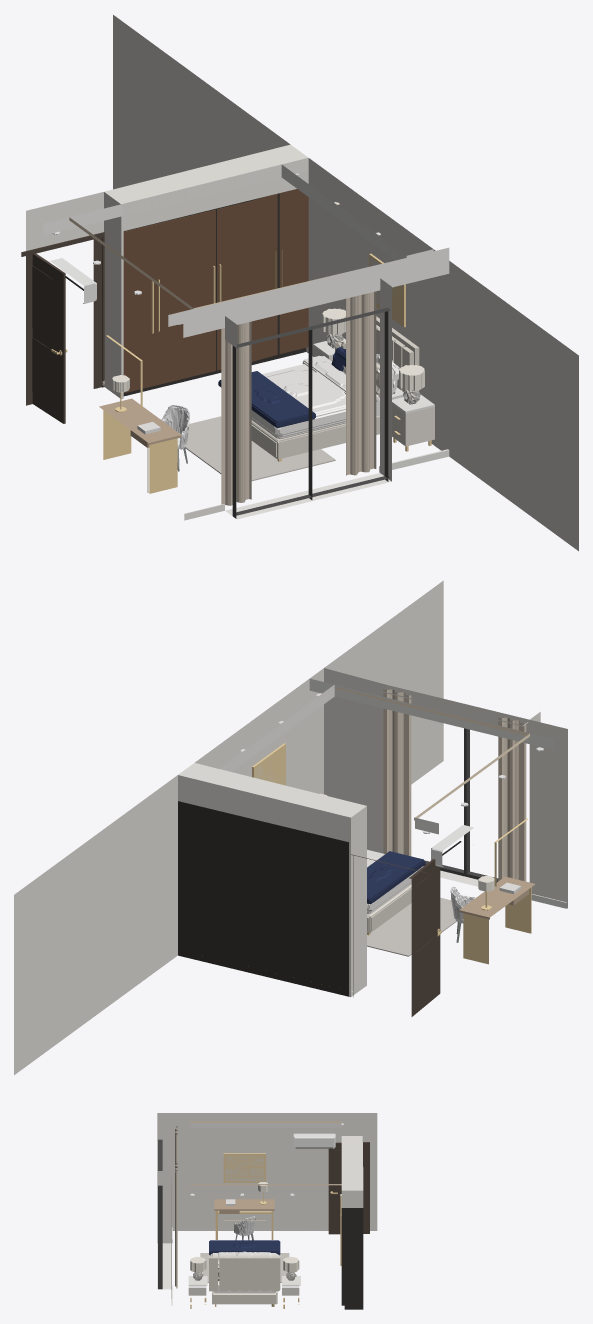
Rendered from ROOM4.glb.
The picture shows the model from 3 angles, top to bottom: view 1: azimuth 30°, elevation 25°; view 2: azimuth 150°, elevation 25°; view 3: azimuth 270°, elevation 25°; orthographic projection. The views are drawn at different scales.
Visible parts, largest first — view 1: WEB_ROOM4; view 2: WEB_ROOM4; view 3: WEB_ROOM4.
Part boxes in pixels (x1,y1,x2,y2): WEB_ROOM4: (21, 15, 578, 551); WEB_ROOM4: (14, 580, 567, 1074); WEB_ROOM4: (157, 1113, 377, 1309).
Bounding box in the file's own units: 4.06 × 3 × 12.12.
